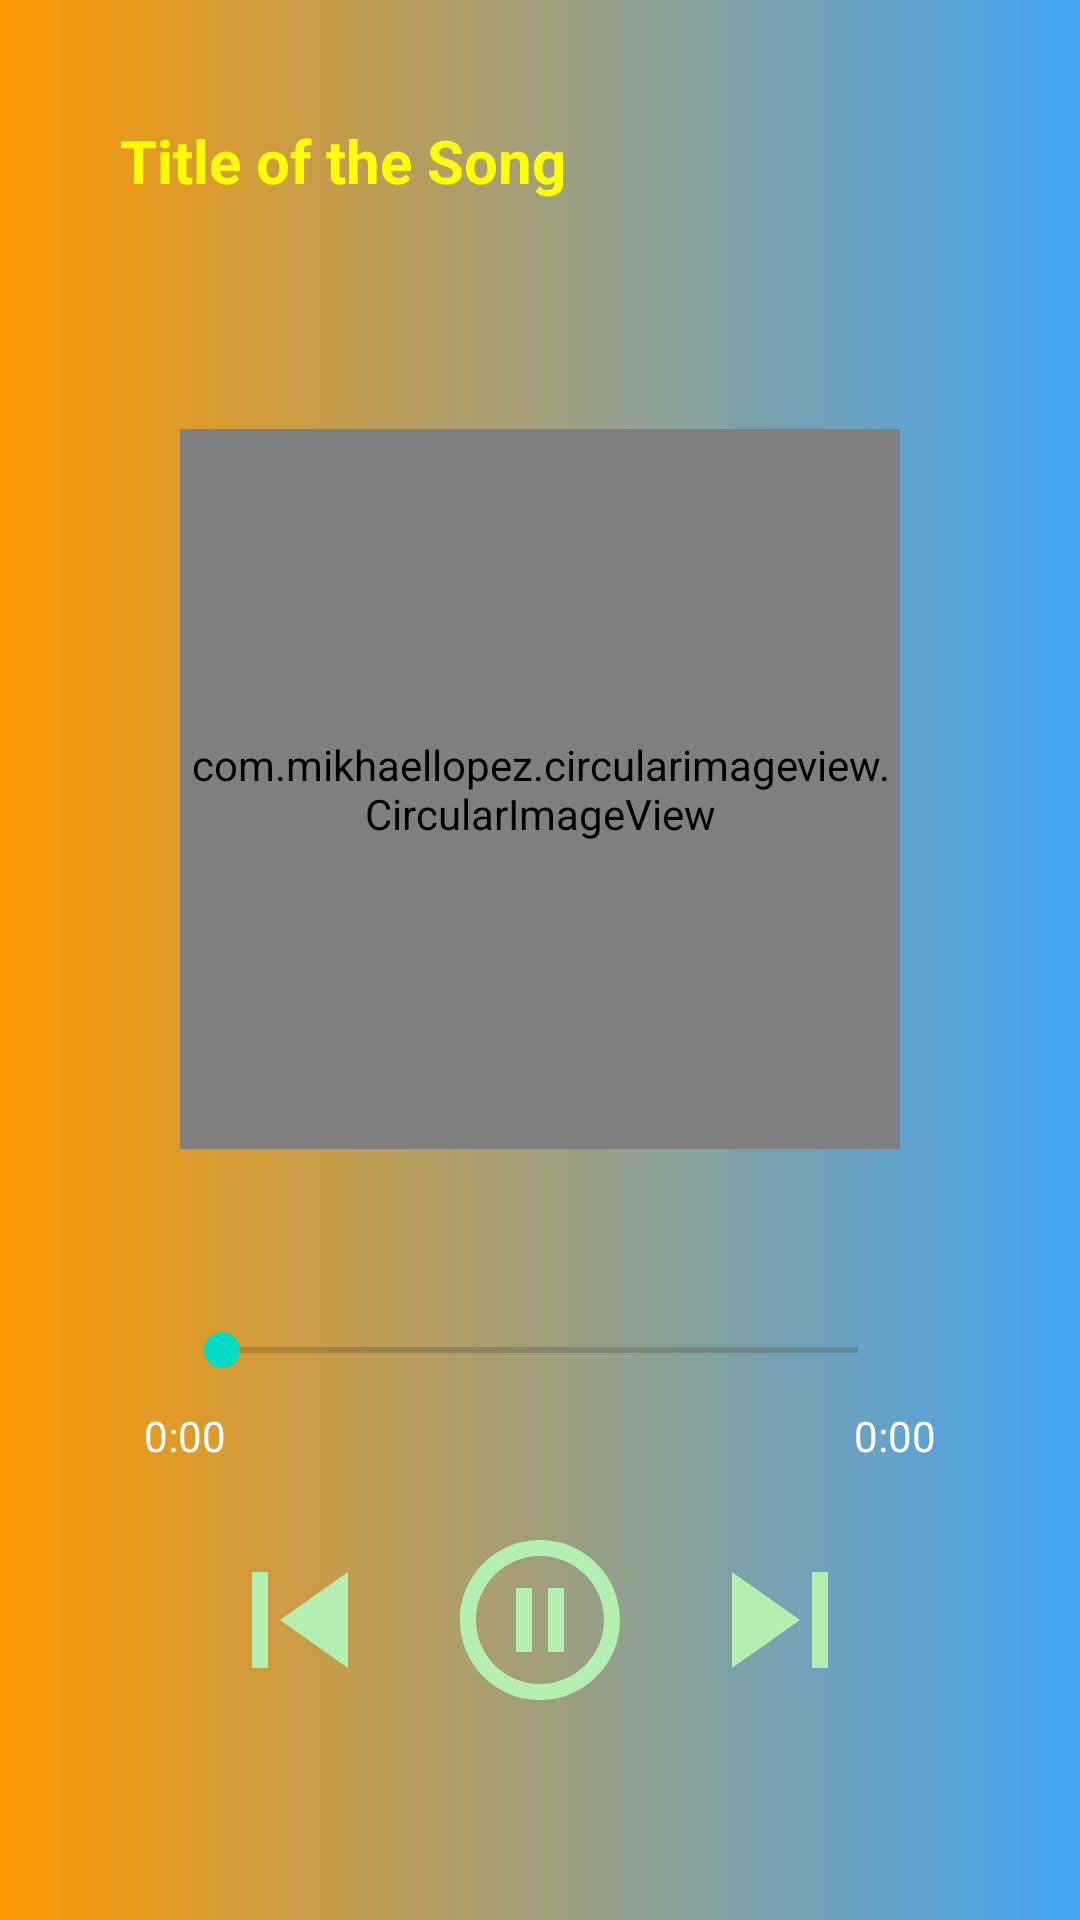

Screen size 1080px x 1920px. Icon name, then its center in pixels as (x=x, y=y):
pause: (x=540, y=1620)
skip next: (x=780, y=1620)
skip previous: (x=300, y=1620)
